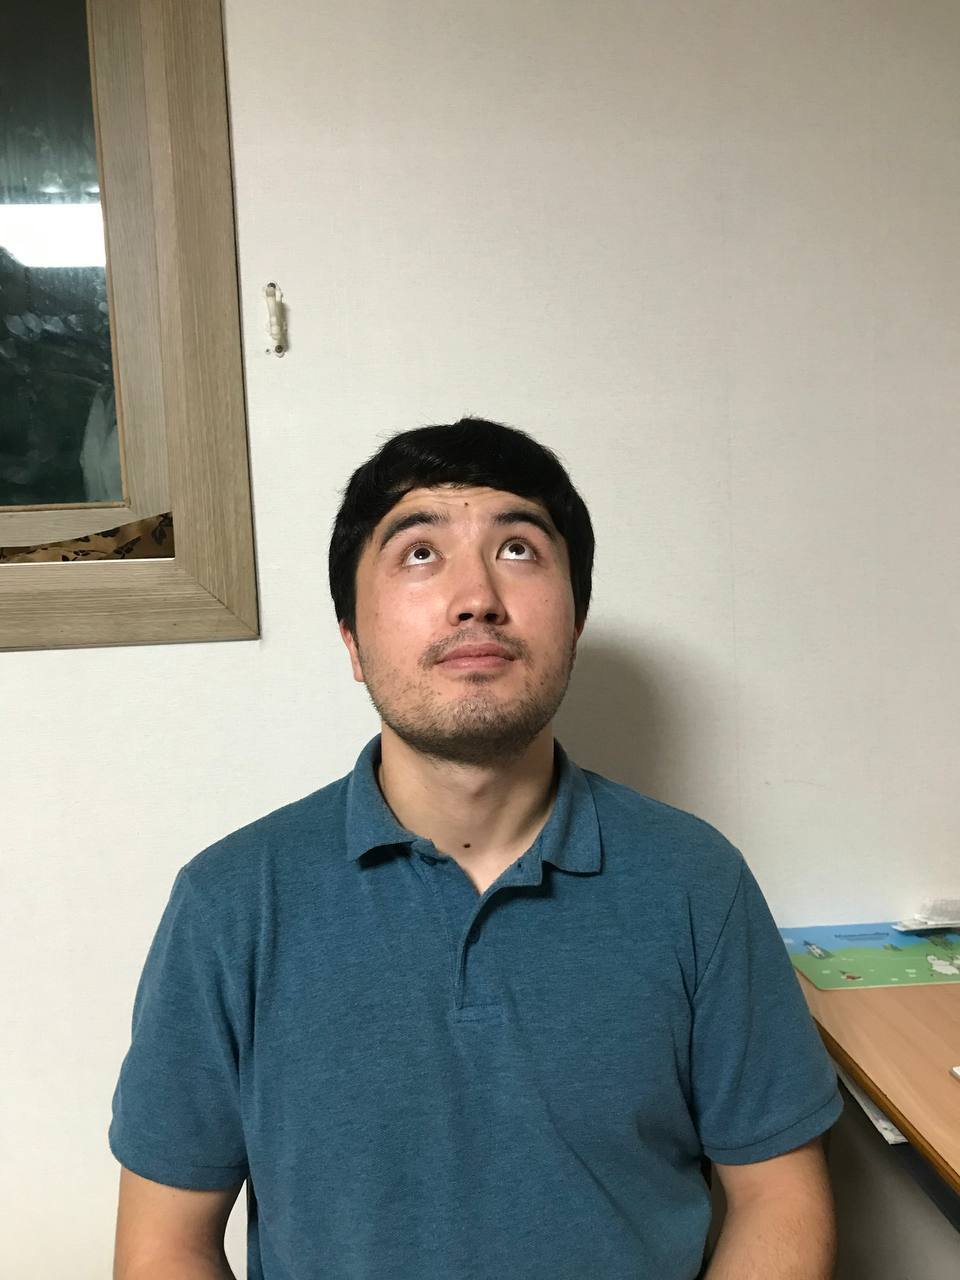NoMask: (330, 581, 594, 764)
